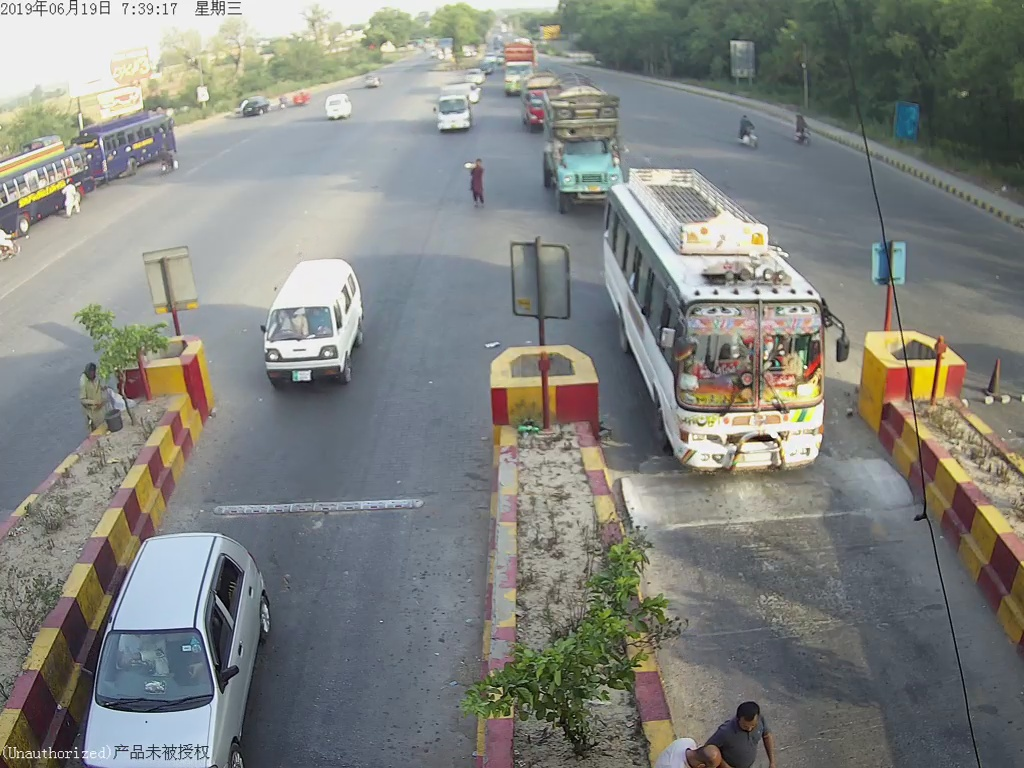Cat-1: (94, 532, 285, 768), (259, 256, 366, 387)
Cat-3: (608, 167, 847, 472), (540, 77, 624, 203)
